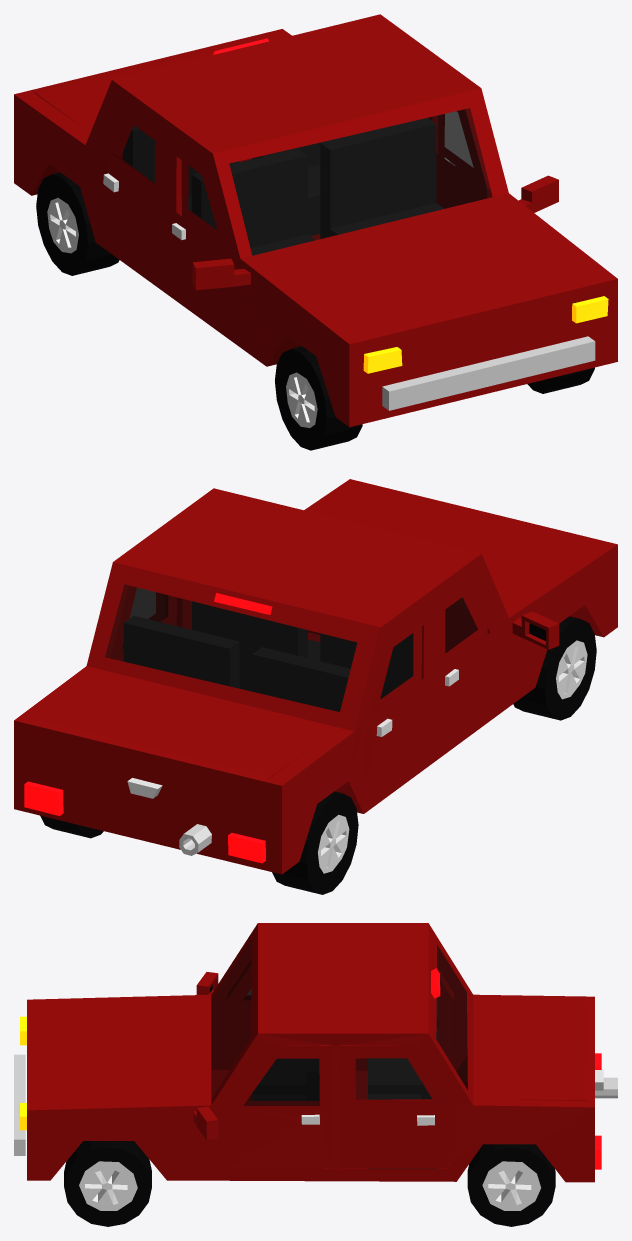
File: car.glb
3 views of the same model, one above another, from view 1: azimuth 30°, elevation 25°; view 2: azimuth 150°, elevation 25°; view 3: azimuth 270°, elevation 25° (orthographic). The views are drawn at different scales.
Visible parts, largest first — view 1: Cube001, Cube001_2, FrontHatch, Cube001_1, Cube010, Cube002, FrontBumber, Cube005, Cylinder002_1, Cylinder003_1, Cube003, Cube001_3 (+8 smaller); view 2: Cube001, Cube005, Cube001_2, Cube001_1, FrontHatch, Cube010, Cube002, Cylinder003_1, Cylinder002_1, Cube001_4, Cube012, Cylinder002 (+7 smaller); view 3: Cube001, FrontHatch, Cube005, Cube012, Cube003, Cube001_2, Cube001_1, Cylinder001_1, Cylinder004_1, Cube003_1, Cube012_1, Cylinder001 (+7 smaller).
Part boxes in pixels (x1,y1,x2,y2): Cube001: (14,14,617,427); Cube001_2: (229,108,492,255); FrontHatch: (267,206,592,334); Cube001_1: (123,118,443,255); Cube010: (96,99,163,276); Cube002: (169,136,231,326); FrontBumber: (382,336,595,410); Cube005: (31,32,276,132); Cylinder002_1: (275,346,362,450); Cylinder003_1: (36,172,119,275); Cube003: (428,108,492,208); Cube001_3: (363,296,608,373); Cube001: (14,479,617,874); Cube005: (28,677,326,828); Cube001_2: (105,584,466,711); Cube001_1: (123,601,413,711); FrontHatch: (322,489,593,605); Cube010: (365,604,432,793); Cube002: (438,573,499,744); Cylinder003_1: (272,791,358,894); Cylinder002_1: (513,616,596,720); Cube001_4: (24,593,272,863); Cube012: (105,584,176,661); Cylinder002: (556,640,587,699); Cube001: (27,923,594,1182); FrontHatch: (40,1002,195,1103); Cube005: (489,1002,594,1100); Cube012: (340,1045,454,1168); Cube003: (227,1045,331,1168); Cube001_2: (211,938,467,1097); Cube001_1: (252,997,438,1168); Cylinder001_1: (64,1141,151,1226); Cylinder004_1: (467,1144,555,1226); Cube003_1: (243,1058,319,1105); Cube012_1: (355,1058,431,1099); Cylinder001: (79,1161,137,1210).
Bounding box in the file's own units: 6.76 × 4.06 × 11.53.
